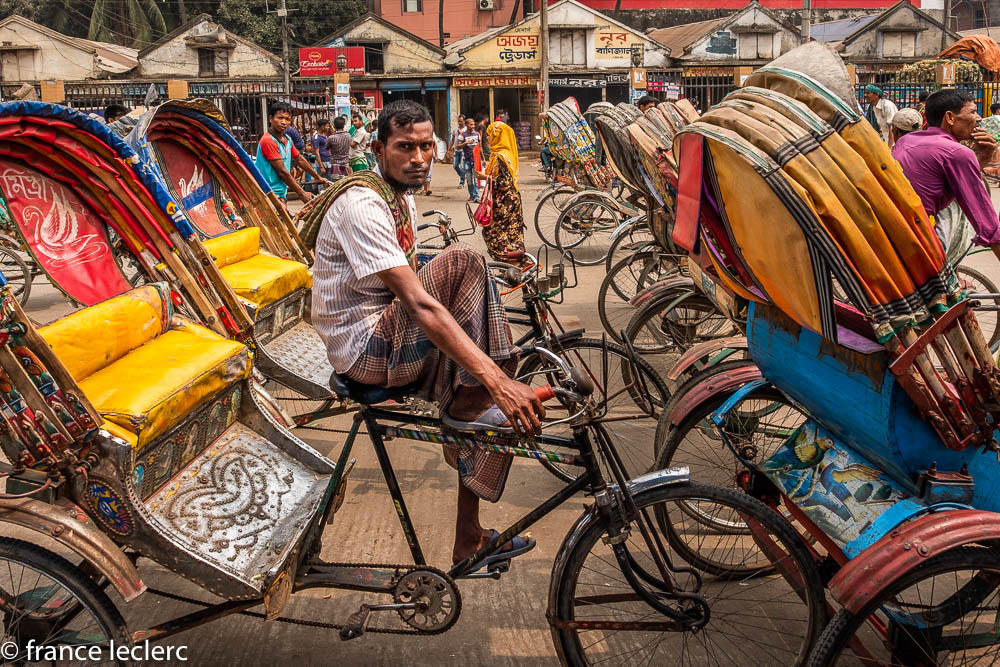Rickshaw: (0, 90, 795, 661), (128, 81, 637, 466), (744, 23, 998, 565), (627, 79, 706, 381), (522, 67, 628, 267)
